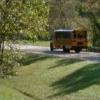Bus: (44, 21, 90, 53)
